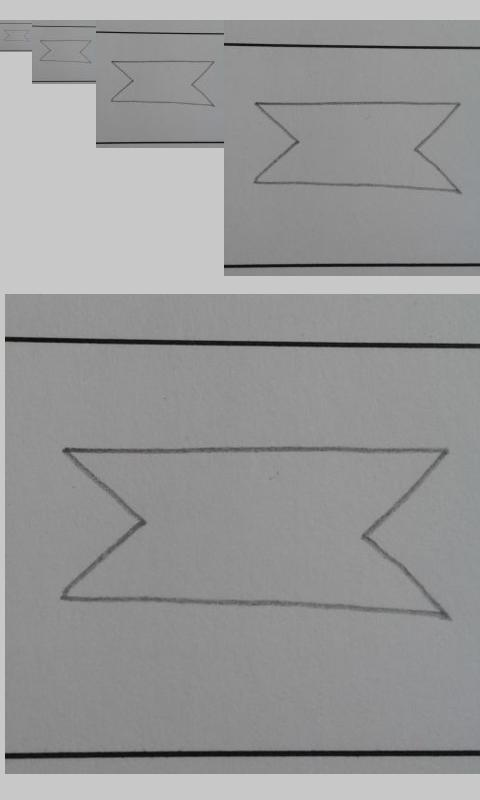edit_text: (59, 441, 452, 619), (250, 100, 463, 195), (108, 59, 216, 106), (39, 39, 92, 64), (3, 29, 30, 42)
